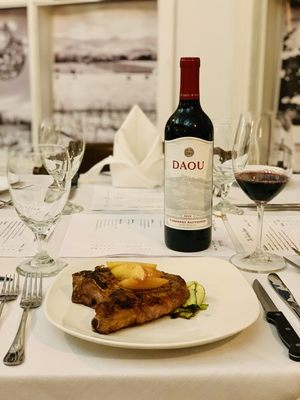sandwich: (253, 278, 300, 362), (267, 272, 300, 328)
